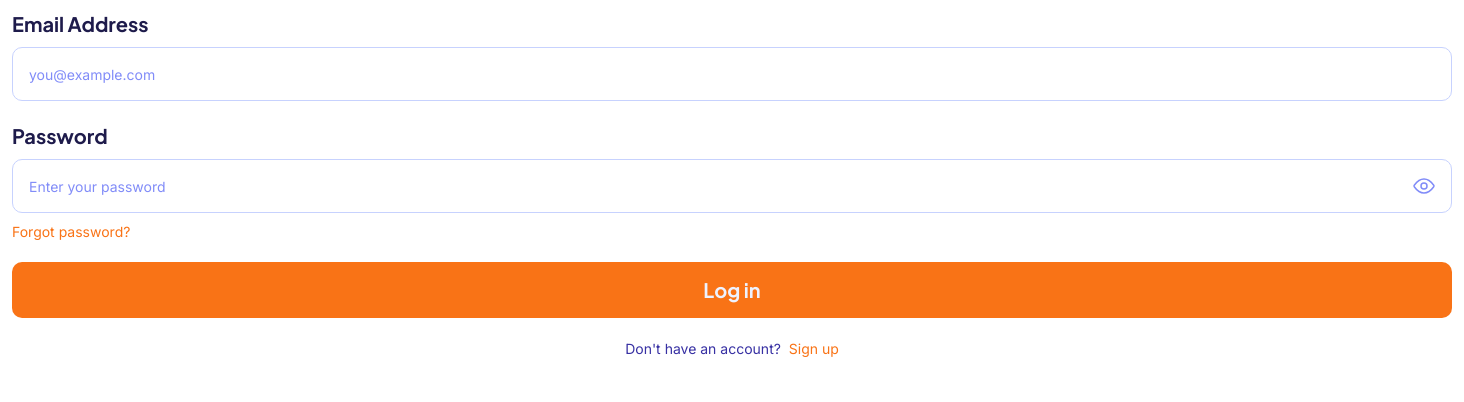
Test case: LoginForm — client-side validation › reports a missing email on blur
Click the field labelled "Email Address" at (732, 74), box x1=12 y1=47 x2=1452 y2=101
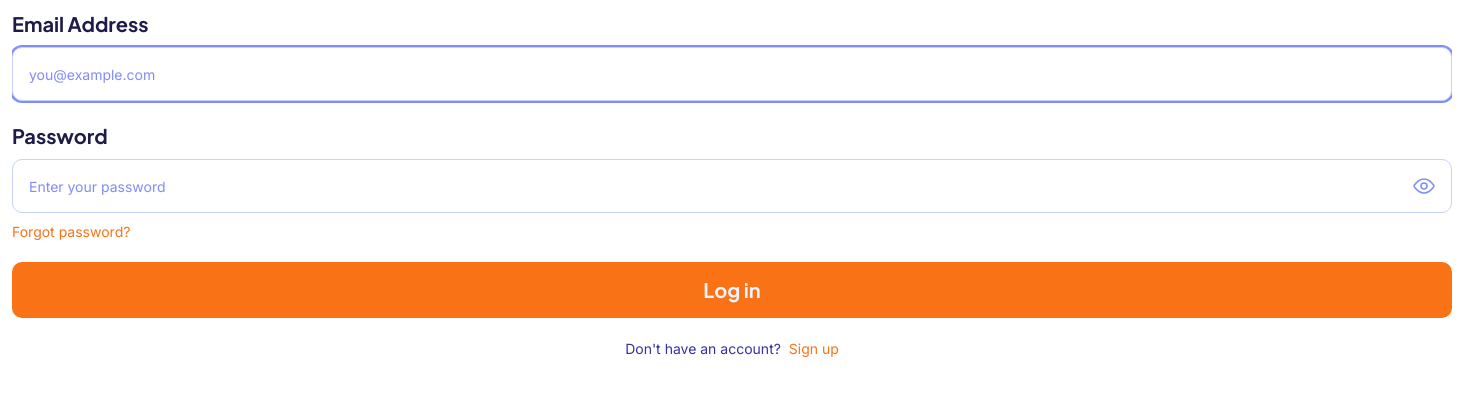
Press Tab
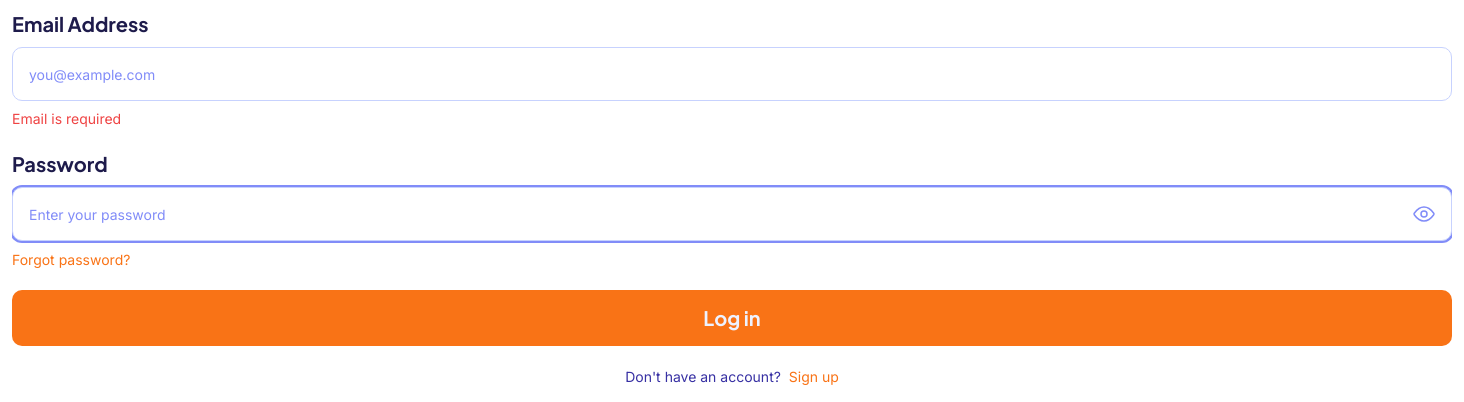
Now the text "Email is required" is shown, box x1=12 y1=110 x2=121 y2=127
